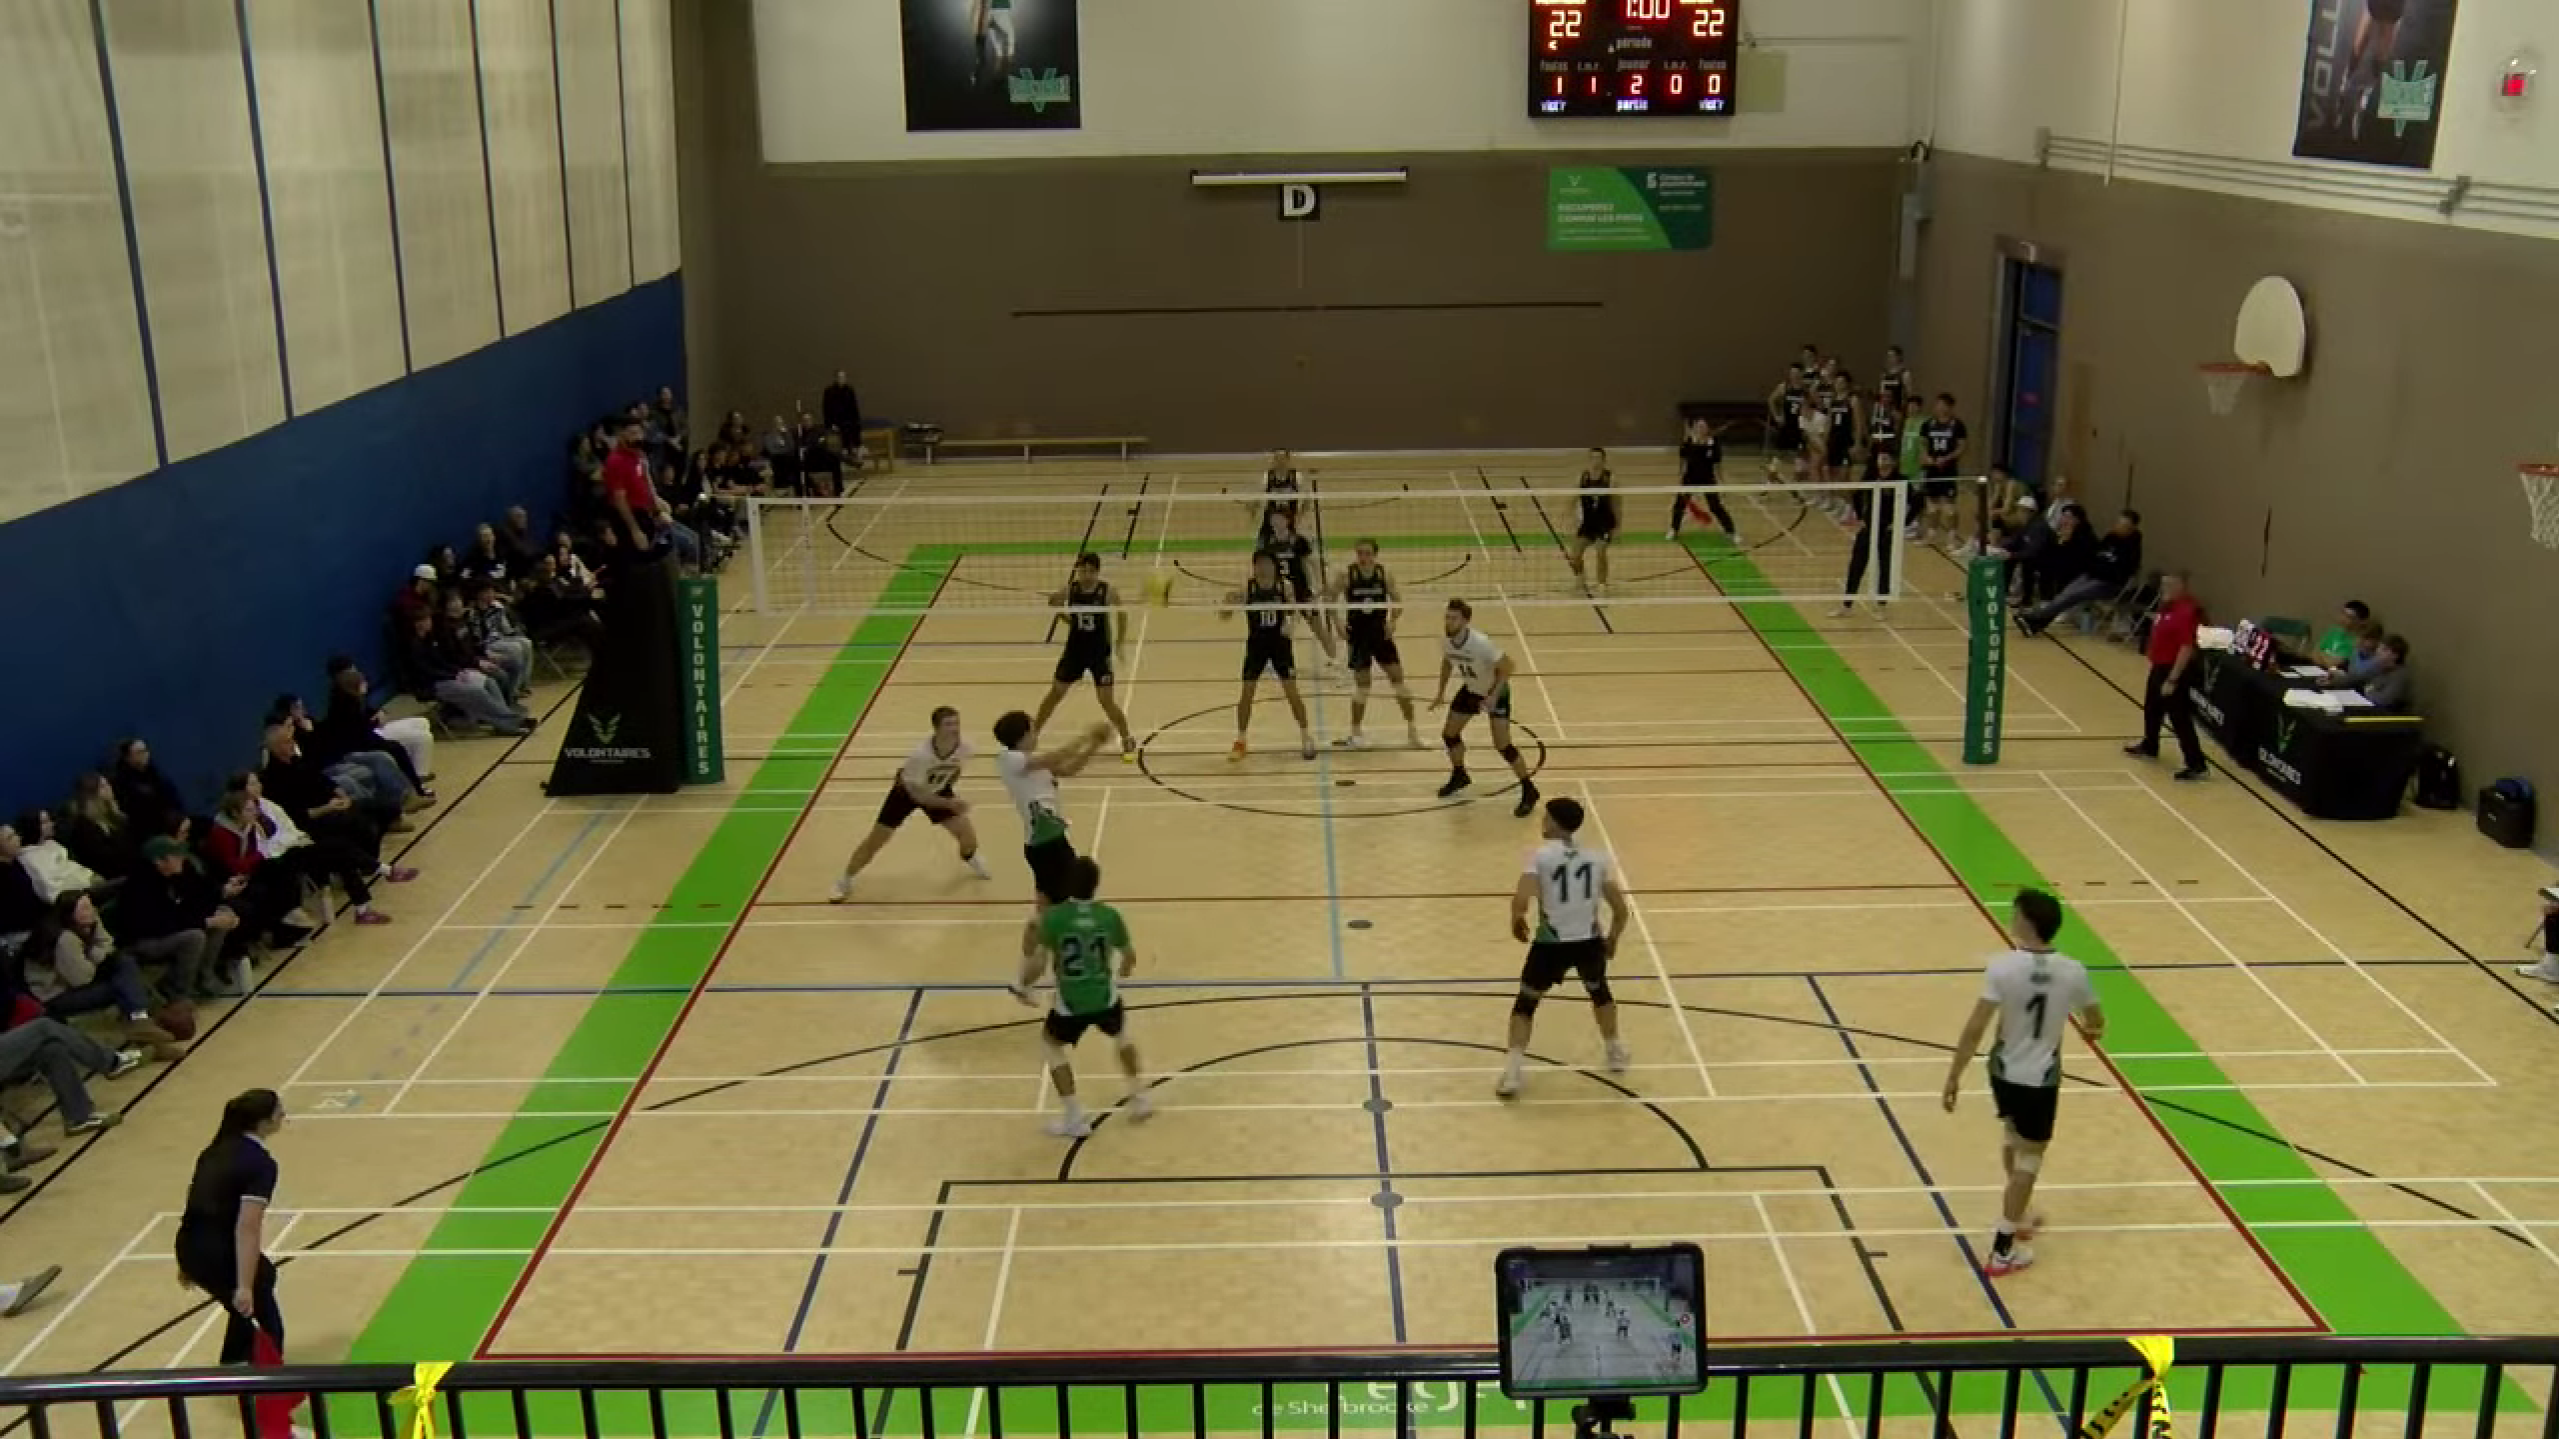Ball: (1139, 571, 1174, 610)
